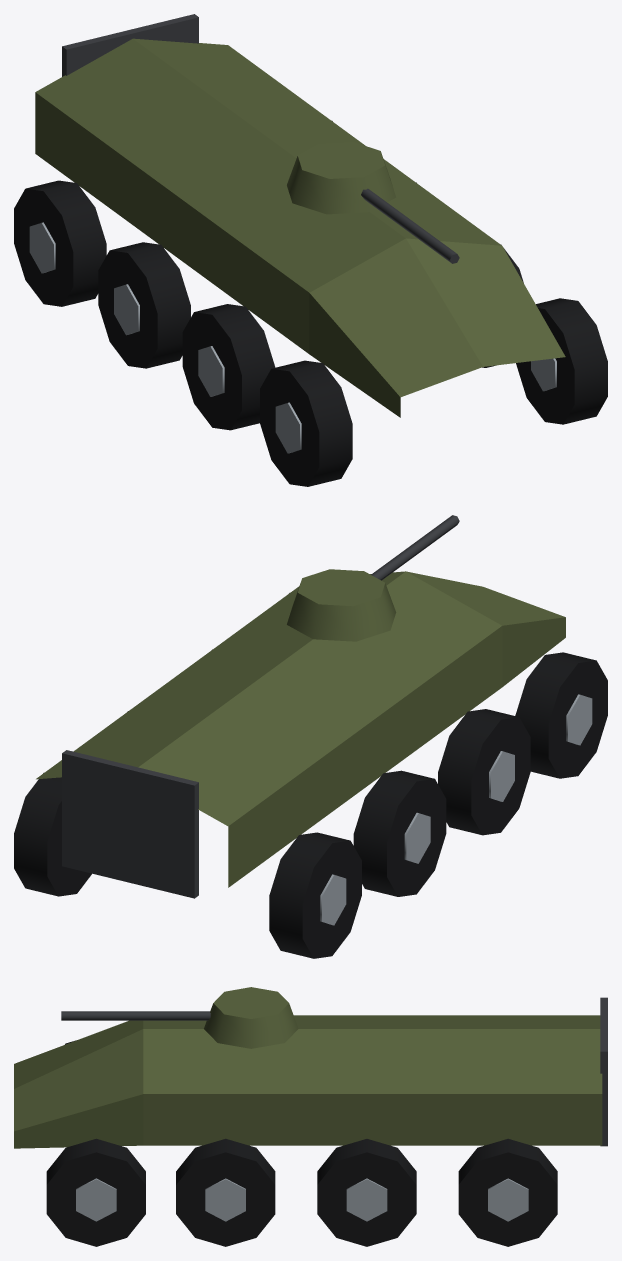
Rendered from veh_ground_apc_a06.glb.
The picture shows the model from 3 angles, top to bottom: view 1: azimuth 30°, elevation 25°; view 2: azimuth 150°, elevation 25°; view 3: azimuth 270°, elevation 25°; orthographic projection. The views are drawn at different scales.
Parts seen in each view (by area): view 1: body, wheel_6, wheel_2, wheel_0, wheel_4, wheel_7, gun, ramp; view 2: body, ramp, wheel_0, wheel_2, wheel_4, wheel_6, gun, wheel_1; view 3: body, wheel_1, wheel_5, wheel_3, wheel_7, gun, ramp.
Boxes of the visible parts, <box> form: body: <box>35,38,565,417</box>; wheel_6: <box>260,360,352,486</box>; wheel_2: <box>98,242,190,368</box>; wheel_0: <box>14,180,106,306</box>; wheel_4: <box>182,304,275,430</box>; wheel_7: <box>516,298,607,424</box>; gun: <box>287,142,459,263</box>; ramp: <box>62,14,198,76</box>; body: <box>36,571,565,887</box>; ramp: <box>62,750,198,898</box>; wheel_0: <box>269,832,361,958</box>; wheel_2: <box>353,770,446,896</box>; wheel_4: <box>438,709,530,835</box>; wheel_6: <box>515,652,607,778</box>; gun: <box>287,515,459,641</box>; wheel_1: <box>14,773,91,896</box>; body: <box>14,1015,602,1148</box>; wheel_1: <box>458,1138,557,1246</box>; wheel_5: <box>176,1138,275,1246</box>; wheel_3: <box>317,1139,416,1246</box>; wheel_7: <box>46,1138,145,1246</box>; gun: <box>61,987,298,1048</box>; ramp: <box>600,997,607,1146</box>.
Size of what is drawn, in the model's own units: 2.98 by 2.15 by 6.26.
